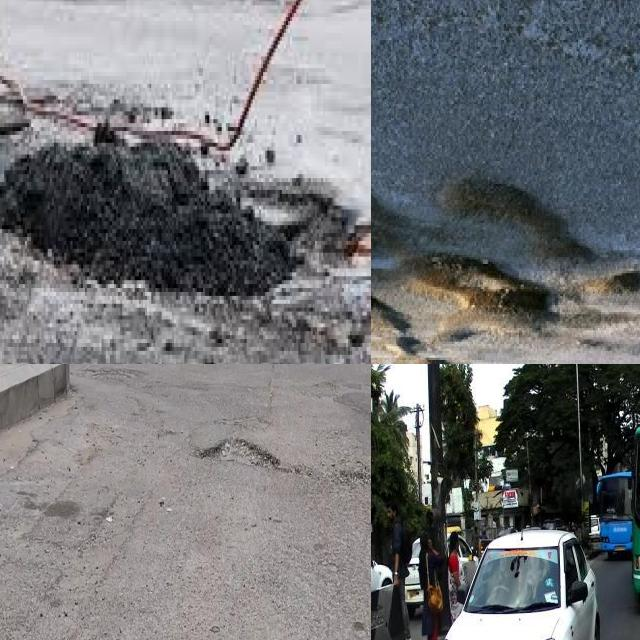Pothole: (434, 178, 606, 275), (403, 255, 559, 341), (439, 177, 595, 260), (242, 182, 371, 276), (371, 294, 450, 364), (198, 433, 280, 472), (610, 272, 640, 292), (438, 327, 476, 342), (579, 338, 605, 347)
